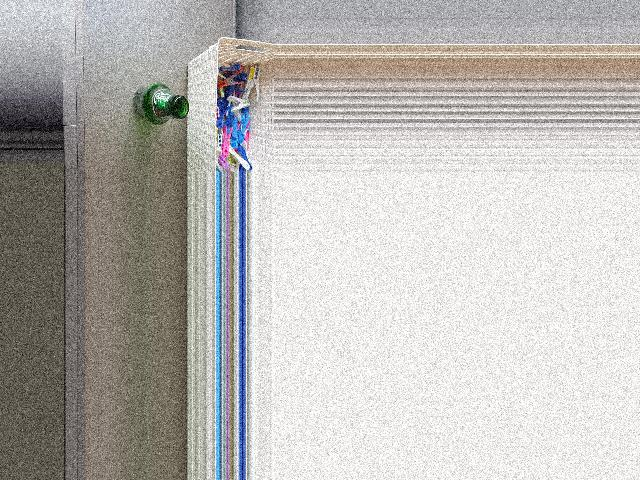beer: (132, 82, 188, 125)
